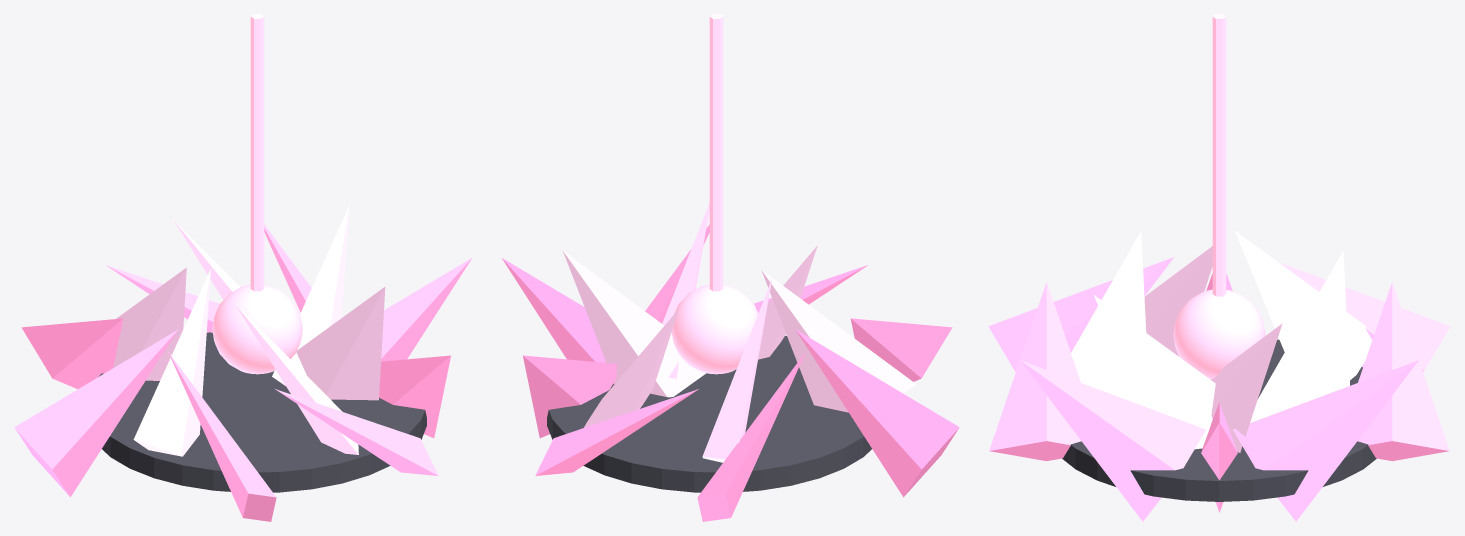
Rendered from relic_9.glb.
3 renders of one model, left to right at view 1: azimuth 30°, elevation 25°; view 2: azimuth 150°, elevation 25°; view 3: azimuth 270°, elevation 25°, orthographic.
Parts seen in each view (by area): view 1: Cone; view 2: Cone; view 3: Cone.
Boxes of the visible parts, x1,y1,x2,y2 form: Cone: (14,14,471,521); Cone: (502,14,959,521); Cone: (988,14,1450,521).
Bounding box in the file's own units: 1.1 × 0.9984 × 0.9436.
